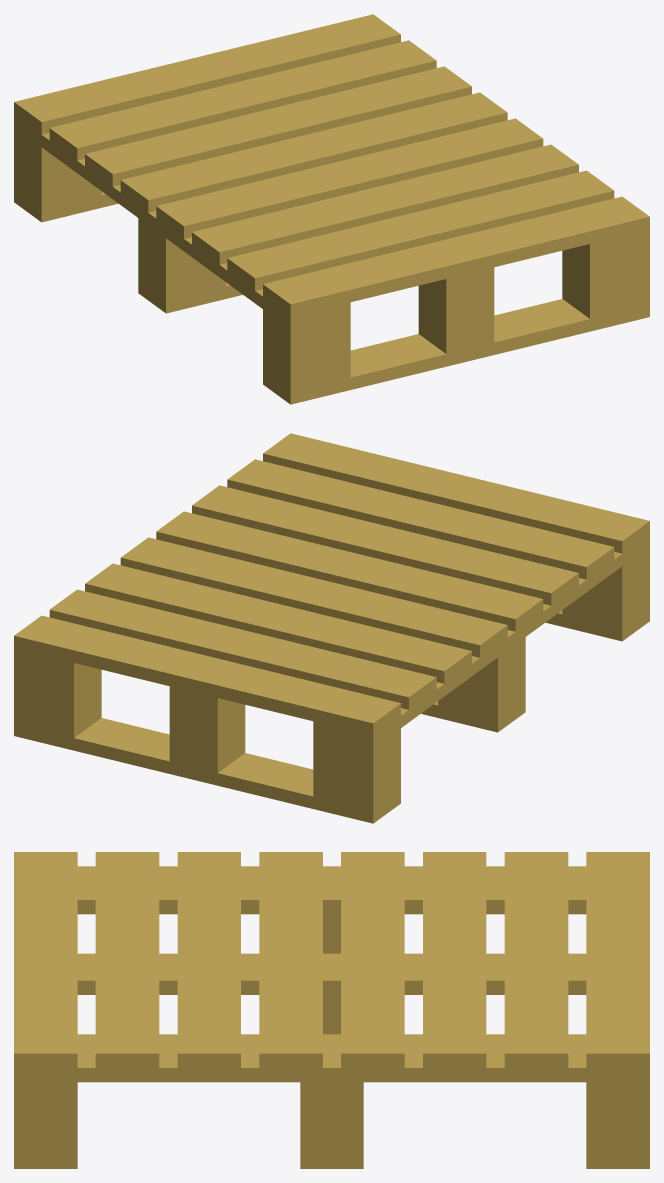
Rendered from EUR6_Half_Pallet.dae.
3 renders of one model, top to bottom at view 1: azimuth 30°, elevation 25°; view 2: azimuth 150°, elevation 25°; view 3: azimuth 270°, elevation 25°, orthographic. The views are drawn at different scales.
Visible parts, largest first — view 1: Component_1 (×11), Component_4 (×4), Component_2 (×2), Component_5, Component_3; view 2: Component_1 (×11), Component_4 (×4), Component_2 (×2), Component_5, Component_3; view 3: Component_1 (×11), Component_2 (×2), Component_4 (×4), Component_3, Component_5.
Boxes of the visible parts, x1,y1,x2,y2 form: Component_1 (×11): (14, 14, 649, 404); Component_4 (×4): (14, 127, 649, 391); Component_2 (×2): (14, 115, 649, 329); Component_5: (418, 280, 494, 353); Component_3: (434, 267, 494, 291); Component_1 (×11): (14, 433, 649, 823); Component_4 (×4): (14, 546, 649, 810); Component_2 (×2): (14, 534, 649, 748); Component_5: (169, 699, 245, 772); Component_3: (169, 686, 229, 710); Component_1 (×11): (14, 852, 649, 1168); Component_2 (×2): (14, 866, 649, 1082); Component_4 (×4): (14, 914, 649, 1154); Component_3: (77, 953, 586, 994); Component_5: (323, 995, 340, 1034).
Bounding box in the file's own units: 23.62 × 31.5 × 6.3.
